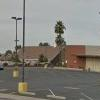Tree: (44, 7, 71, 43)
